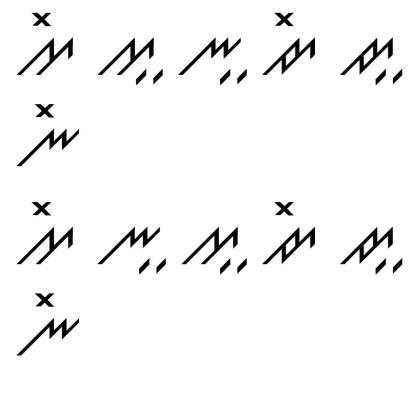jah: (336, 220, 405, 277), (336, 32, 406, 87)
jo: (262, 9, 322, 81), (260, 196, 319, 267)
nyah: (93, 220, 168, 278), (176, 32, 251, 86)
nyo: (14, 99, 86, 174), (12, 286, 84, 360)
sah: (93, 29, 168, 85), (178, 221, 251, 278)
so: (13, 196, 80, 271), (13, 9, 77, 80)
